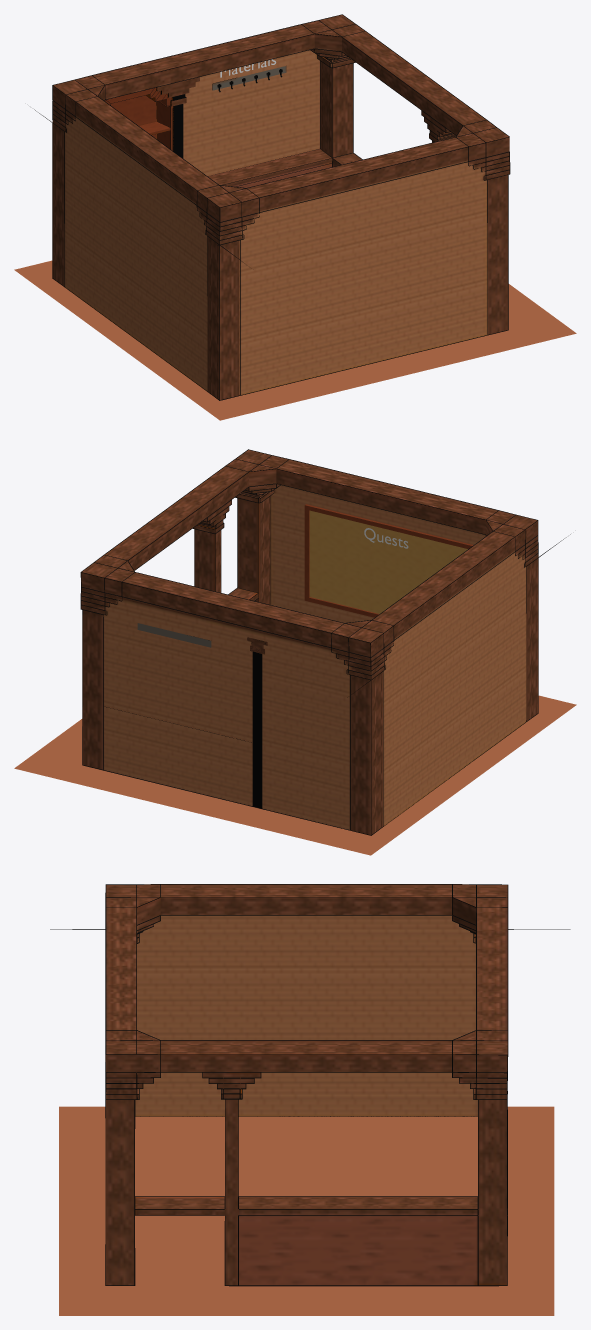
Rendered from YGC_Complete_pixel.fbx.
The picture shows the model from 3 angles, top to bottom: view 1: azimuth 30°, elevation 25°; view 2: azimuth 150°, elevation 25°; view 3: azimuth 270°, elevation 25°; orthographic projection. The views are drawn at different scales.
Parts seen in each view (by area): view 1: YGC_all, Floor, All_wire; view 2: YGC_all, Floor, All_wire; view 3: YGC_all, Floor, All_wire.
Part boxes in pixels (box(x1,y1,x2,y2)): YGC_all: box(52, 15, 509, 399); Floor: box(14, 260, 576, 420); All_wire: box(34, 14, 510, 400); YGC_all: box(81, 450, 538, 834); Floor: box(14, 695, 576, 855); All_wire: box(80, 449, 570, 835); YGC_all: box(105, 884, 507, 1285); Floor: box(59, 1106, 554, 1315); All_wire: box(50, 884, 570, 1286).
Bounding box in the file's own units: 2275 × 1185 × 2586.
3 materials, 1 textured.
